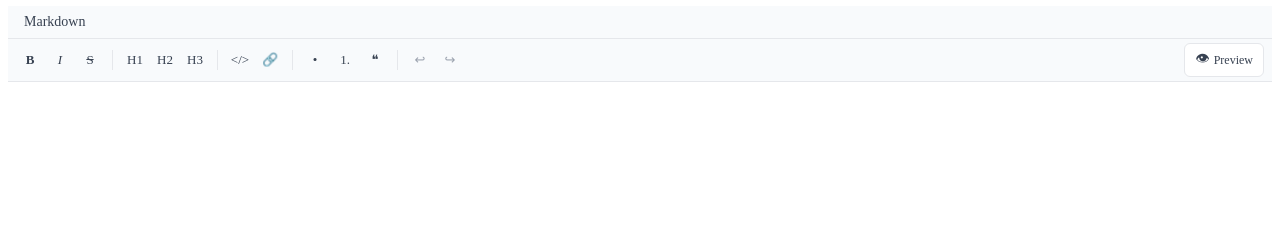
MarkdownEditor › コンテンツの保持 › モード切り替え時にコンテンツが保持される
The width and height of the screenshot is (1280, 242).
プレビューモードに切り替え
Click the button with aria-label "プレビュー表示に切り替え" at (1224, 60), box [1184,43,1264,77]
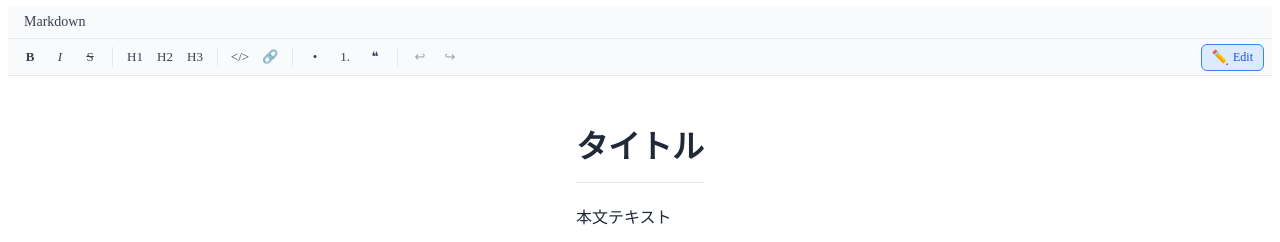
Expected: the heading "タイトル" is shown, [576,121,704,183]
テキストモードに戻る
Click the button with aria-label "テキスト編集に切り替え" at (1232, 57), box [1200,44,1264,70]
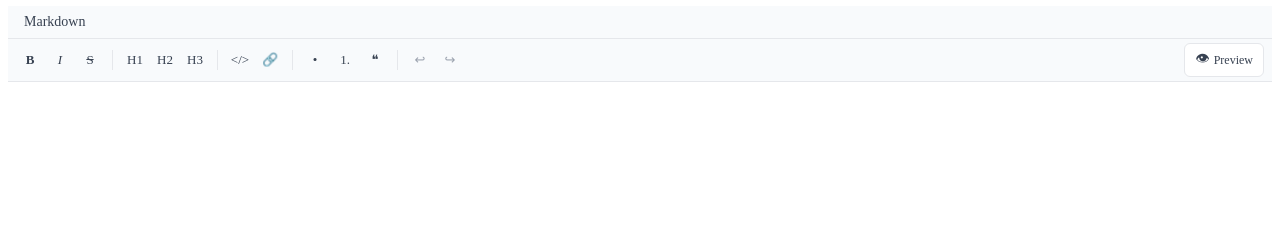
再度プレビューモードに切り替え
Click the button with aria-label "プレビュー表示に切り替え" at (1224, 60), box [1184,43,1264,77]
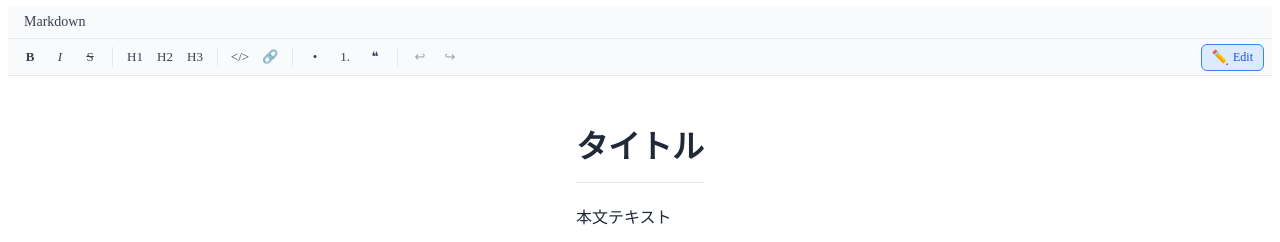
Expected: the heading "タイトル" is shown, [576,121,704,183]
